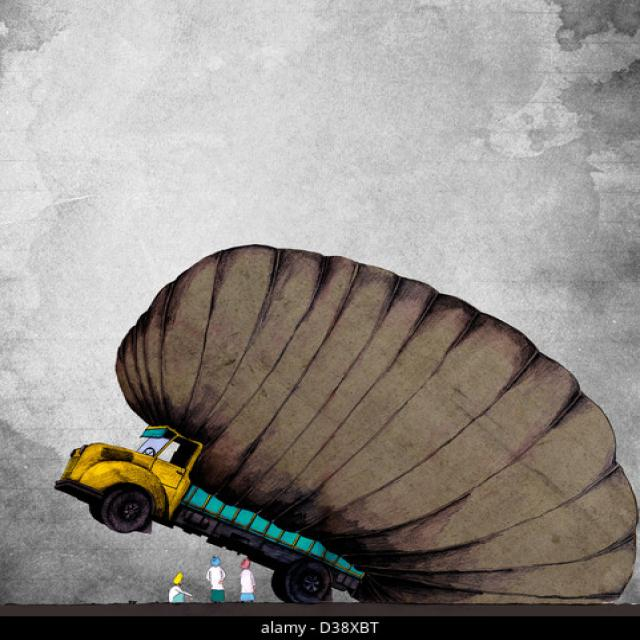normal_truck: (55, 425, 365, 602)
overloaded_truck: (116, 246, 636, 602)
